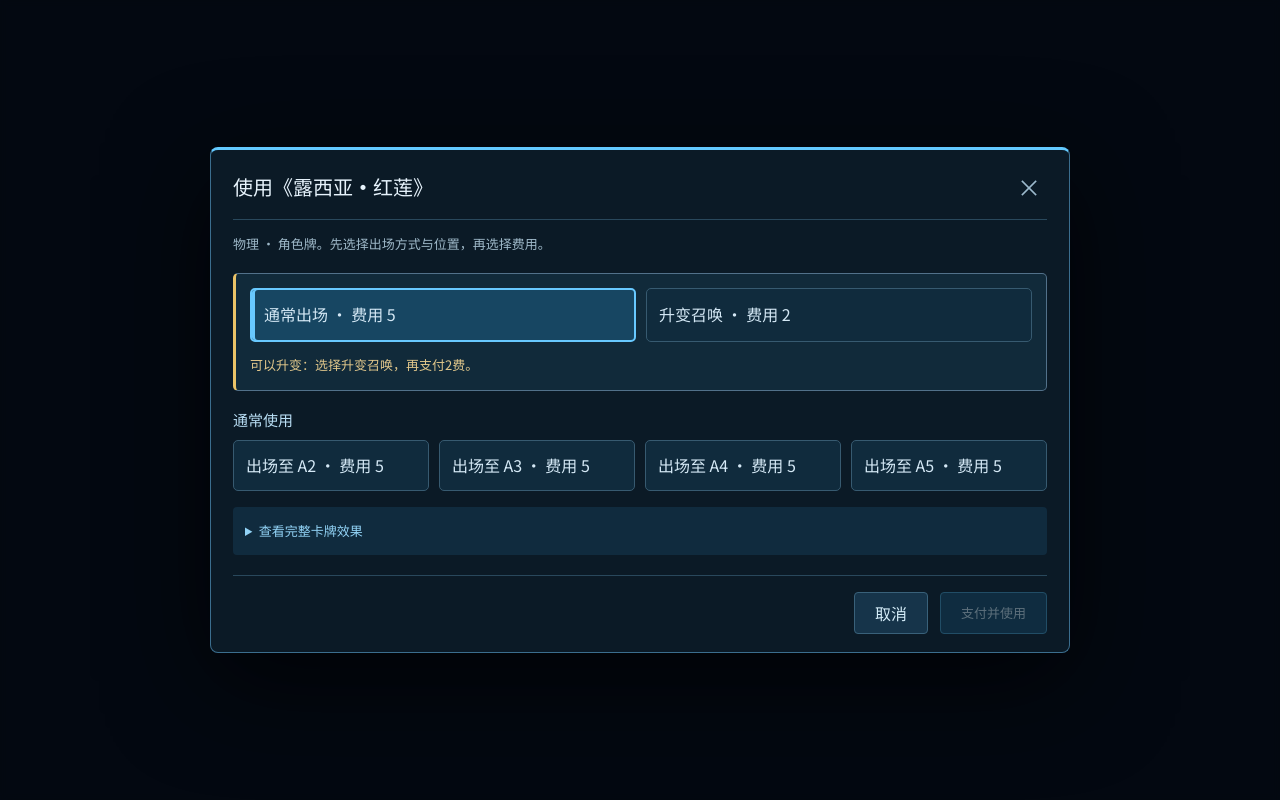
explicit battle choices › shows an explicit evolution mode for the screenshot case with normal options and an A1 target
The image size is (1280, 800).
Later steps or results of the test are not shown.
Click the button "升变召唤 · 费用 2": point(725, 314) [646,288,1032,342]
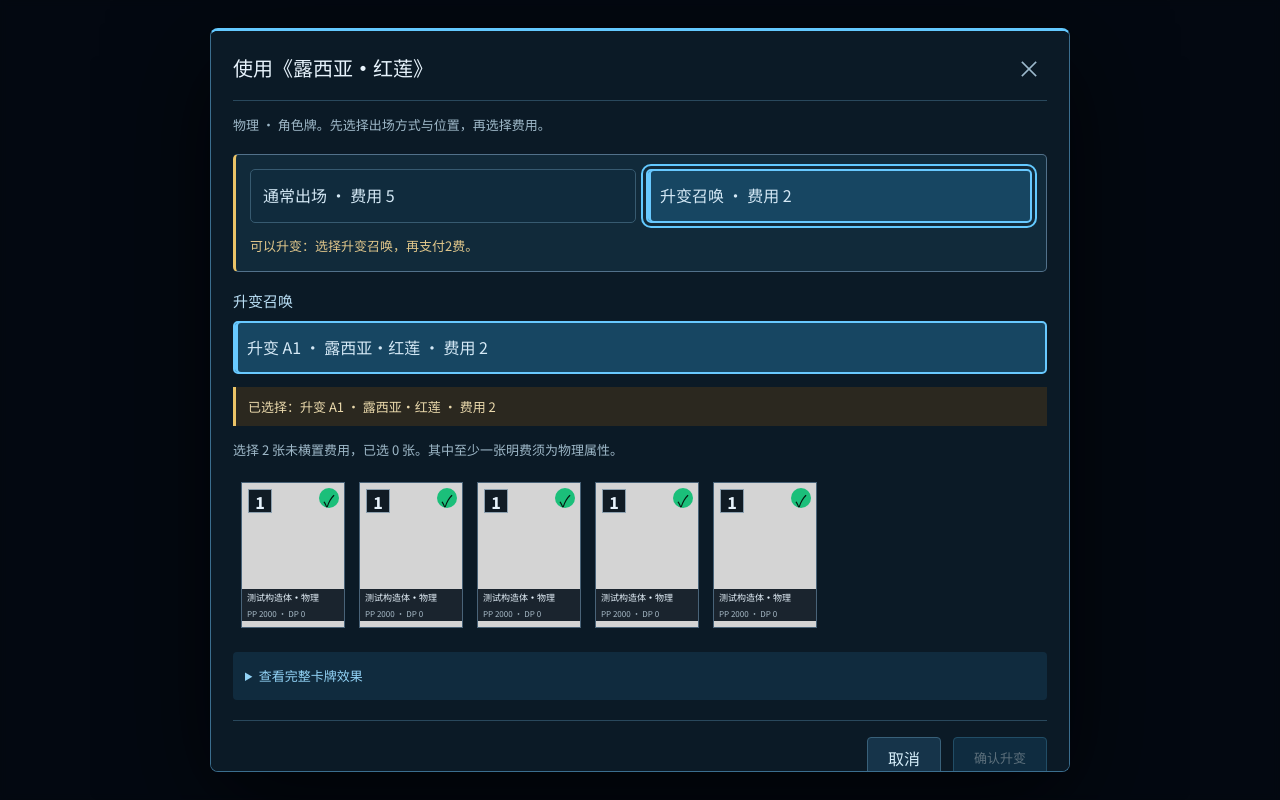
Result: the text "已选择：升变 A1 · 露西亚·红莲 · 费用 2" is shown at [233,387,1047,426]
